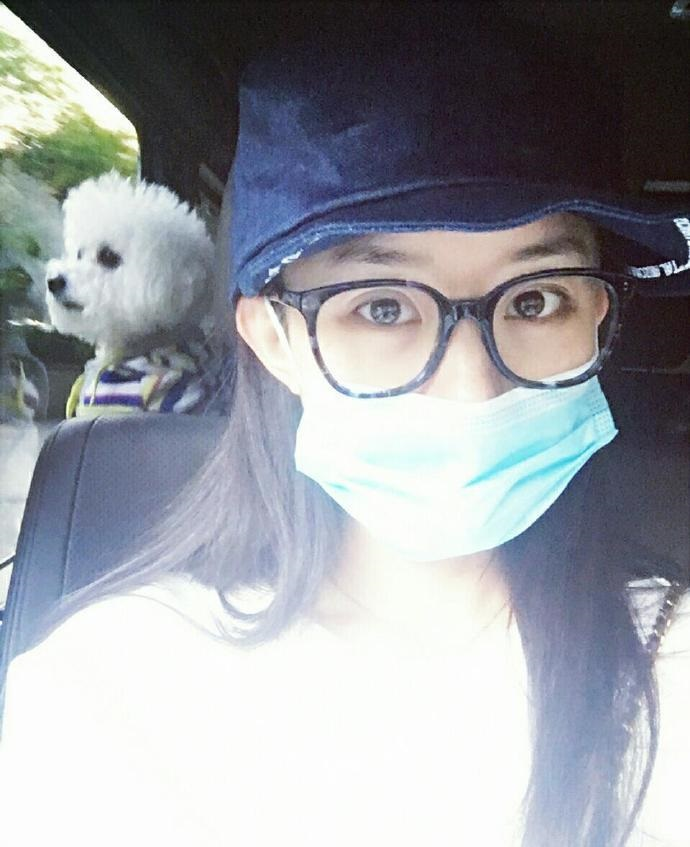face_mask: (292, 235, 614, 561)
